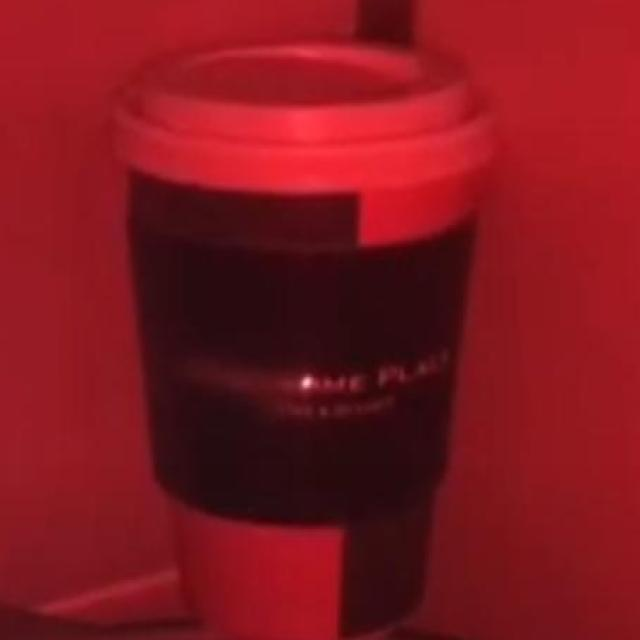hidden camera: (297, 372, 318, 395)
